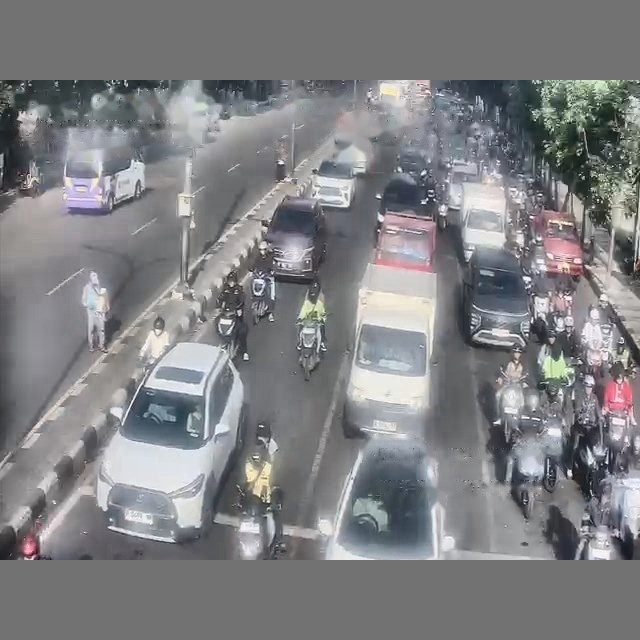Bis: (63, 145, 145, 212)
Mobil: (96, 342, 245, 541), (318, 436, 454, 559), (462, 247, 530, 347), (264, 196, 326, 280), (374, 214, 436, 271), (535, 210, 582, 278), (376, 174, 431, 232), (461, 194, 505, 261), (311, 160, 355, 208), (448, 160, 479, 210), (396, 145, 431, 182), (332, 144, 367, 176)
Motor: (505, 428, 556, 519), (236, 486, 285, 559), (574, 425, 608, 498), (499, 370, 525, 445), (215, 302, 241, 359), (607, 411, 630, 473), (298, 320, 321, 380), (251, 271, 272, 324)
Truk: (343, 264, 436, 436)
